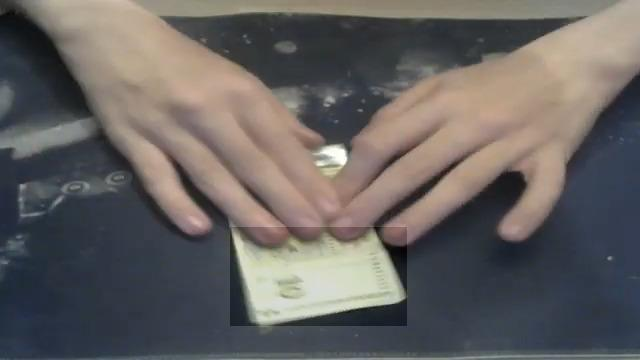10leva: (230, 227, 407, 326)
